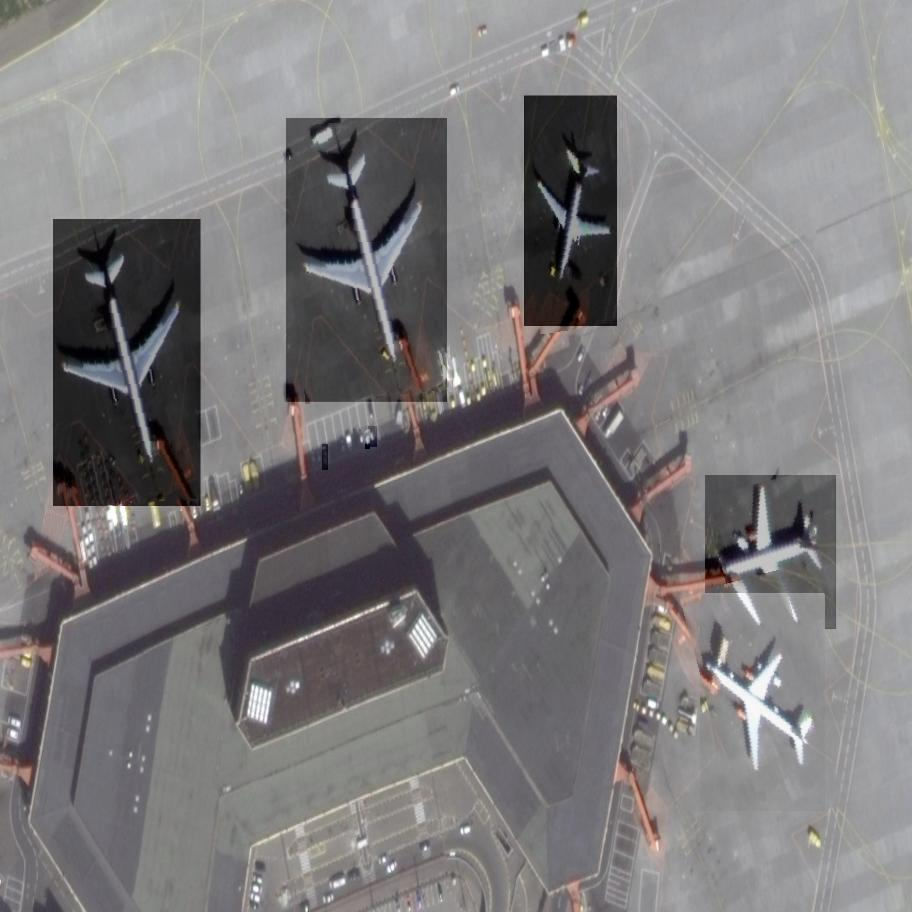plane: (271, 118, 458, 402), (46, 219, 212, 506), (700, 582, 828, 823), (510, 96, 631, 326), (705, 474, 836, 641)
small-vehicle: (368, 426, 378, 447), (322, 444, 329, 470), (365, 430, 370, 448)
